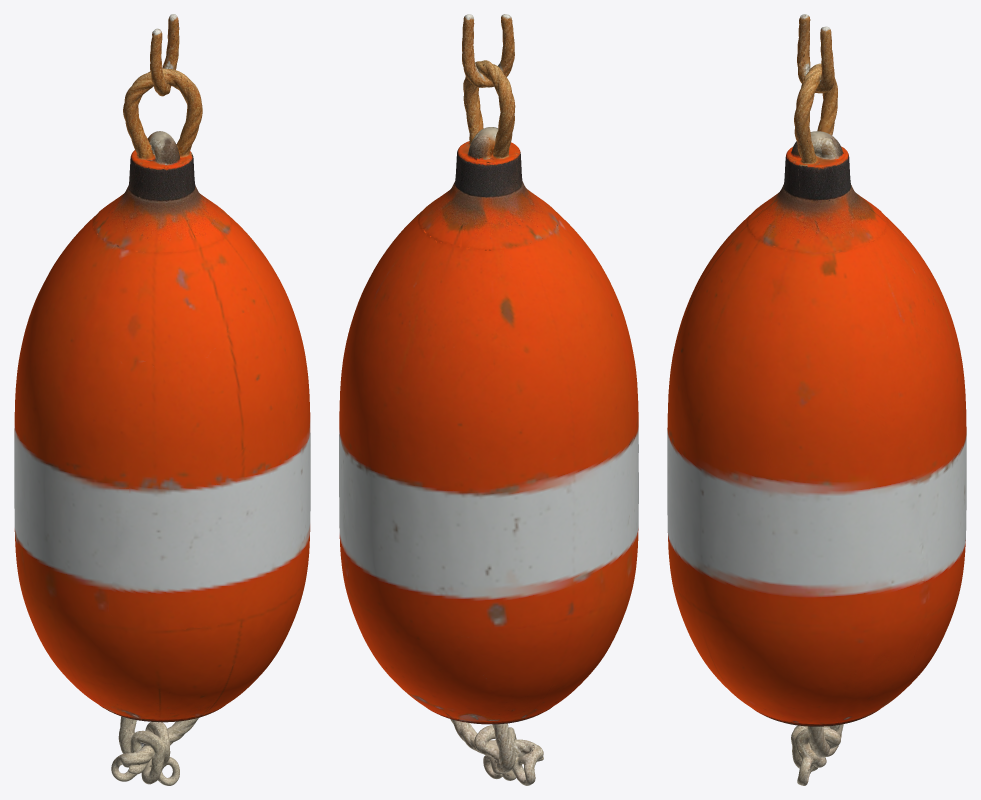
The model's file is boa_pesca.glb.
3 views of the same model, side by side, from view 1: azimuth 30°, elevation 25°; view 2: azimuth 150°, elevation 25°; view 3: azimuth 270°, elevation 25° (orthographic).
Visible parts, largest first — view 1: Mesh_0; view 2: Mesh_0; view 3: Mesh_0.
Part boxes in pixels (x1,y1,x2,y2): Mesh_0: (14,14,310,785); Mesh_0: (339,14,638,785); Mesh_0: (667,14,966,785).
Bounding box in the file's own units: 0.3541 × 1 × 0.3542.
1 material, 1 textured.
